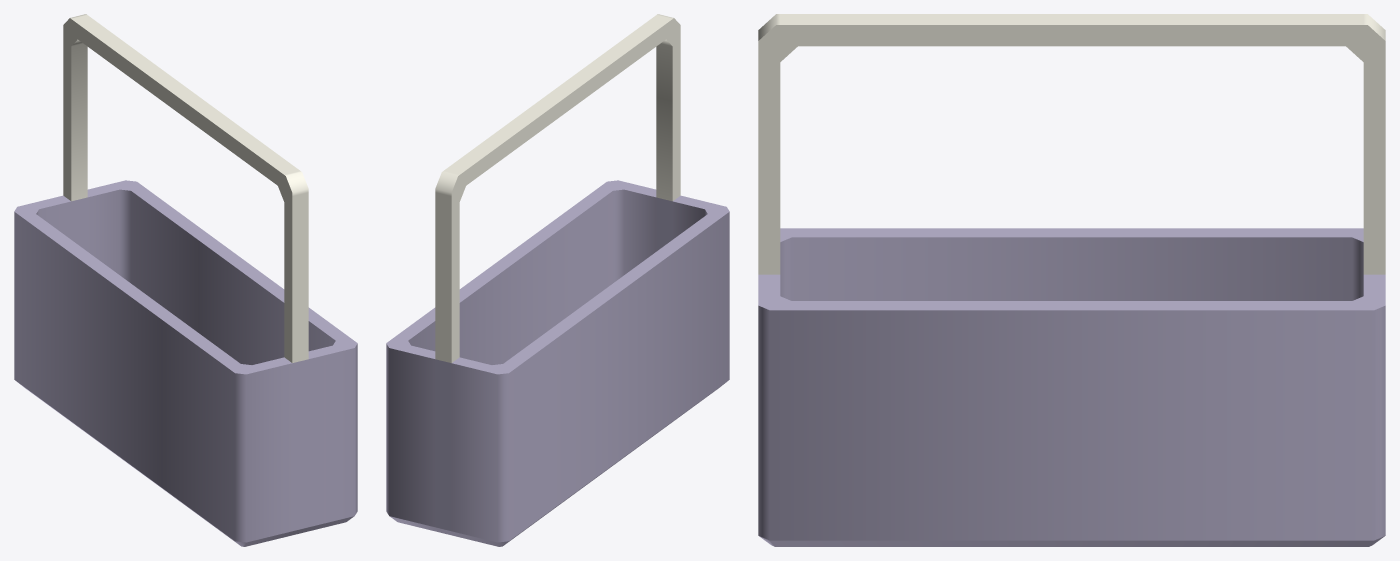
The model's file is Bac.fbx.
The picture shows the model from 3 angles, left to right: view 1: azimuth 30°, elevation 25°; view 2: azimuth 150°, elevation 25°; view 3: azimuth 270°, elevation 25°; orthographic projection. The views are drawn at different scales.
Parts seen in each view (by area): view 1: Bac; view 2: Bac; view 3: Bac.
Part boxes in pixels (x1,y1,x2,y2): Bac: (14,14,357,546); Bac: (386,14,729,546); Bac: (758,14,1385,546).
Bounding box in the file's own units: 12.78 × 41.29 × 35.73.
